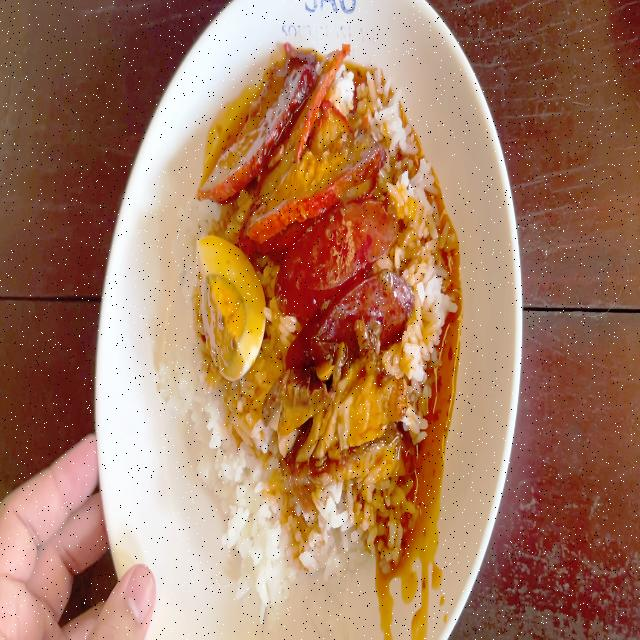boiled_egg: (194, 389, 278, 579), (191, 236, 267, 384)
chainese_sausage: (284, 207, 417, 353)
crispy_pork: (267, 376, 411, 489)
red_pork: (204, 59, 381, 201)
red_pork_and_crispy_pork: (178, 62, 447, 566)
